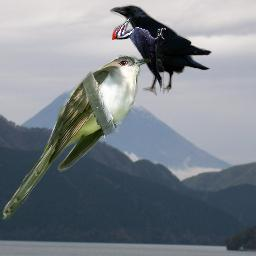Crow: (110, 4, 212, 96)
Cuckoo: (0, 54, 151, 223)
Woodpecker: (112, 17, 166, 94)
